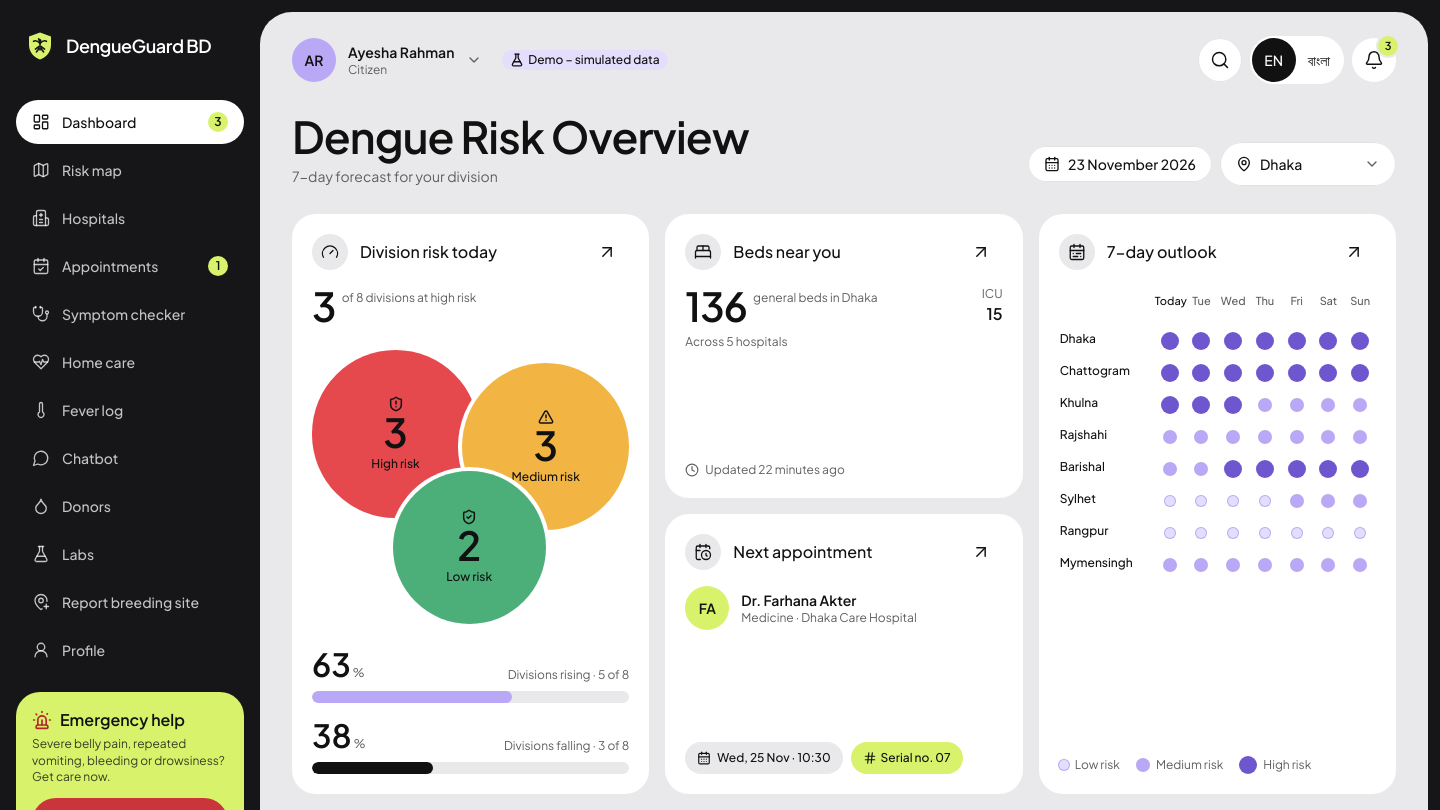
Test: User menu: demo role switcher › switches between the citizen and donor demo accounts
This screenshot has width=1440, height=810.
Click the button named "Citizen — open account menu": click(391, 60) [292,38,490,82]
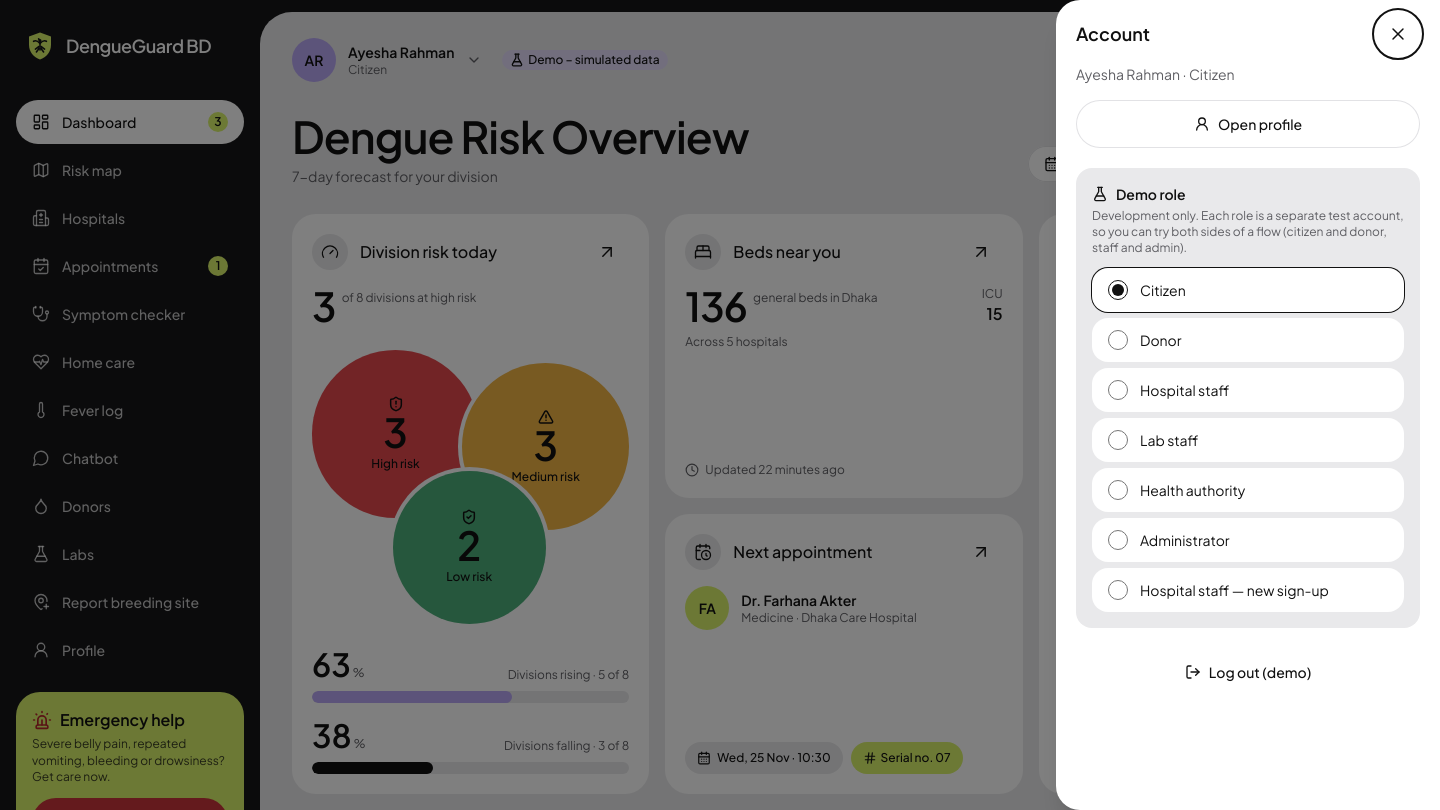
Check: the radio button labelled "Citizen" is checked, box [1108,280,1128,300]
Check: the radio button labelled "Hospital staff" is enabled, box [1108,380,1128,400]
Check: the radio button labelled "Administrator" is enabled, box [1108,530,1128,550]
Click the radio button labelled "Donor": click(1118, 340) [1108,330,1128,350]
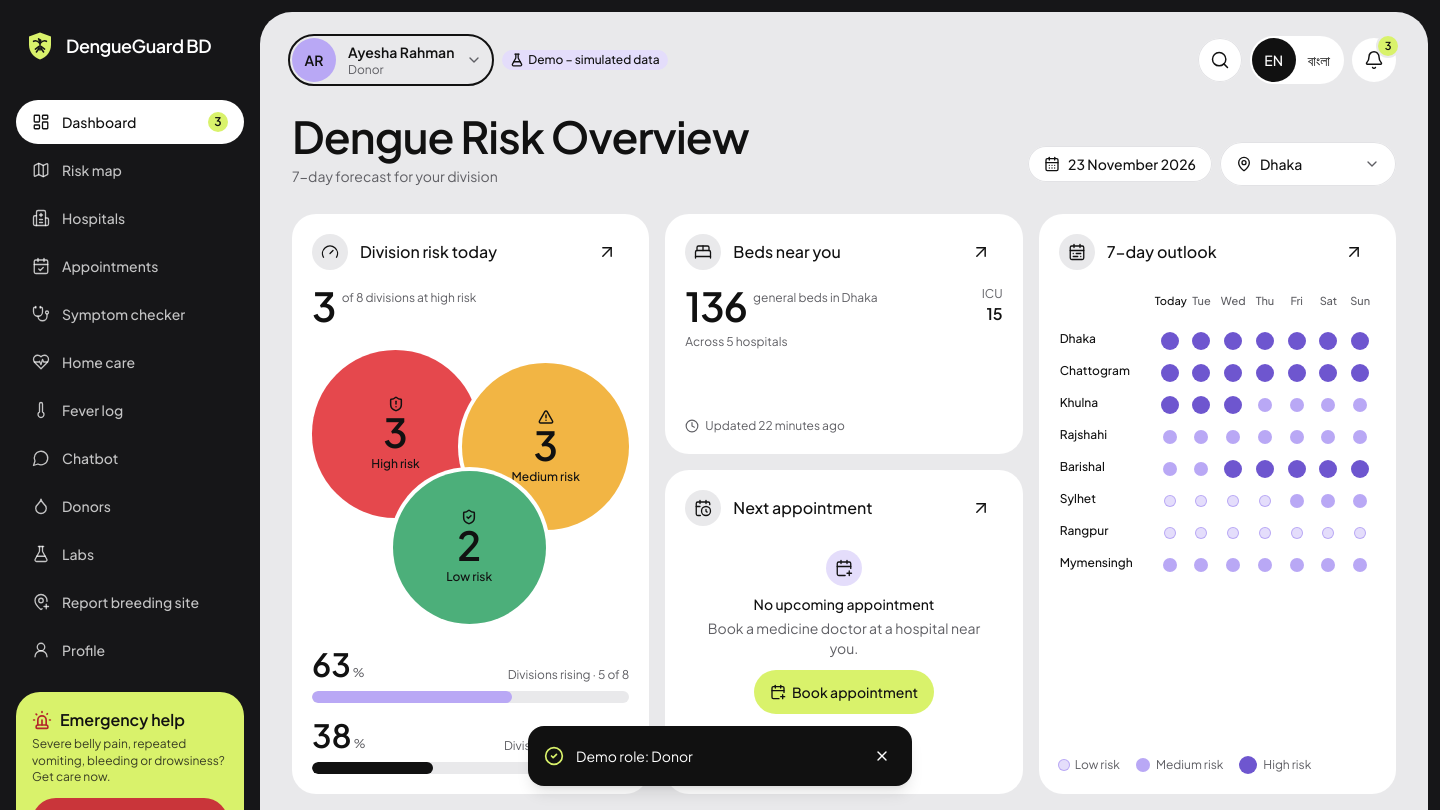
Check: the button named "Donor — open account menu" is shown, box [292,38,490,82]
Check: the text "Demo role: Donor" is shown, box [576,747,693,765]
